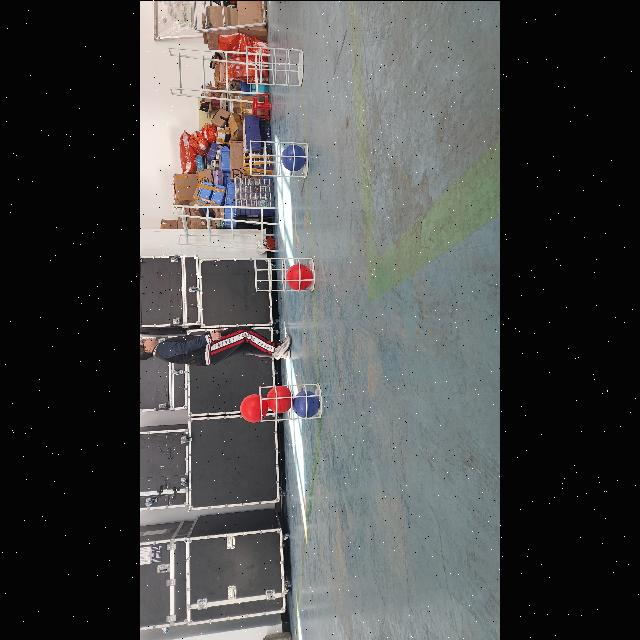B: (282, 142, 306, 172), (293, 390, 319, 416)
R: (240, 392, 268, 422), (286, 262, 312, 290), (267, 384, 293, 412)
S: (258, 380, 324, 424), (242, 43, 304, 89), (252, 254, 316, 296), (248, 134, 308, 178)
